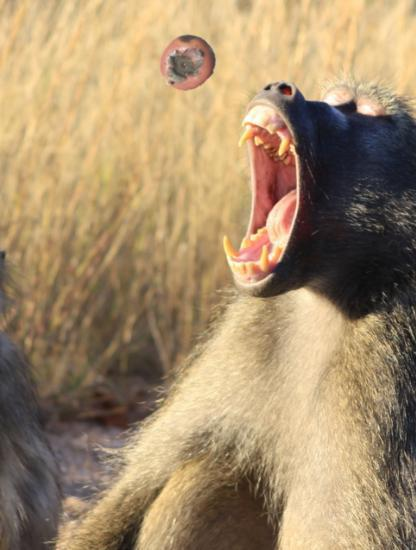Kaki: (158, 34, 217, 93)
